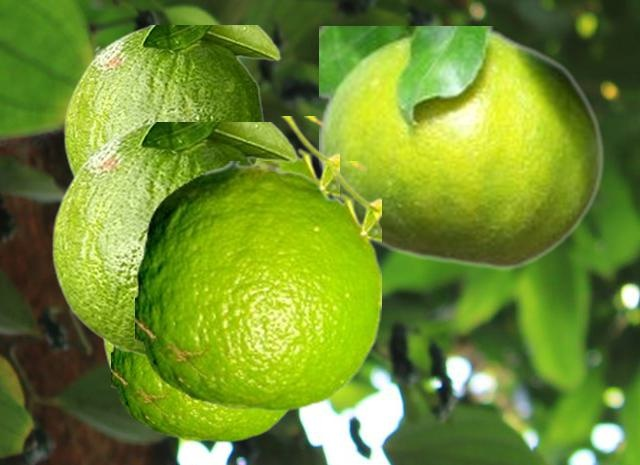dalandan: (319, 26, 604, 270), (135, 161, 380, 410), (51, 122, 297, 357), (63, 25, 280, 178), (111, 347, 291, 441), (276, 116, 338, 196)
